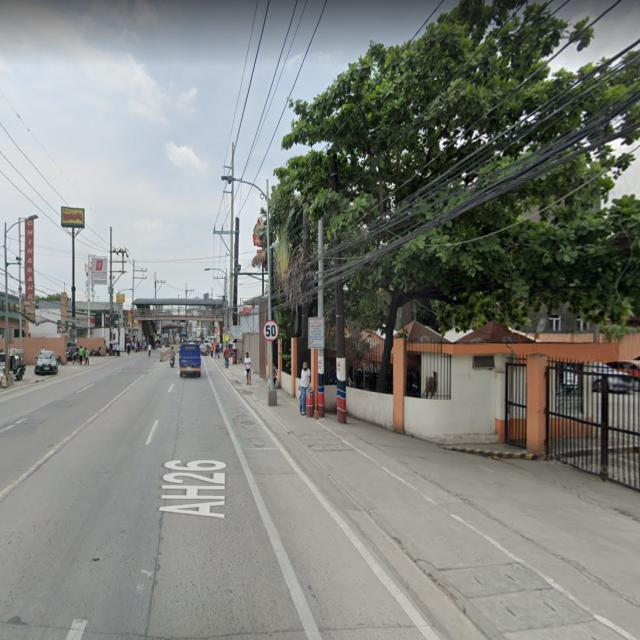50 kph: (262, 320, 279, 341)
